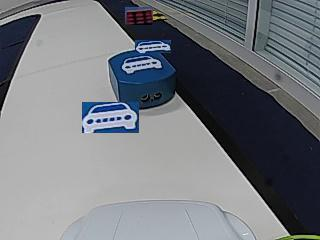safety: (121, 55, 163, 73)
